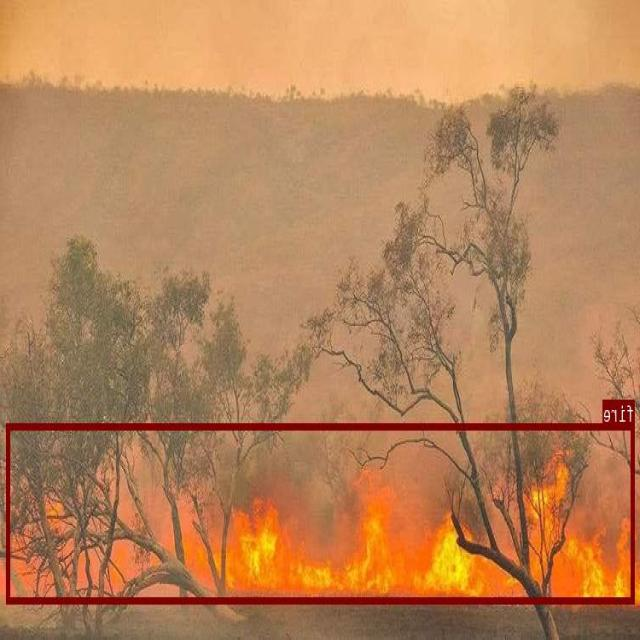fire: (7, 423, 635, 602)
